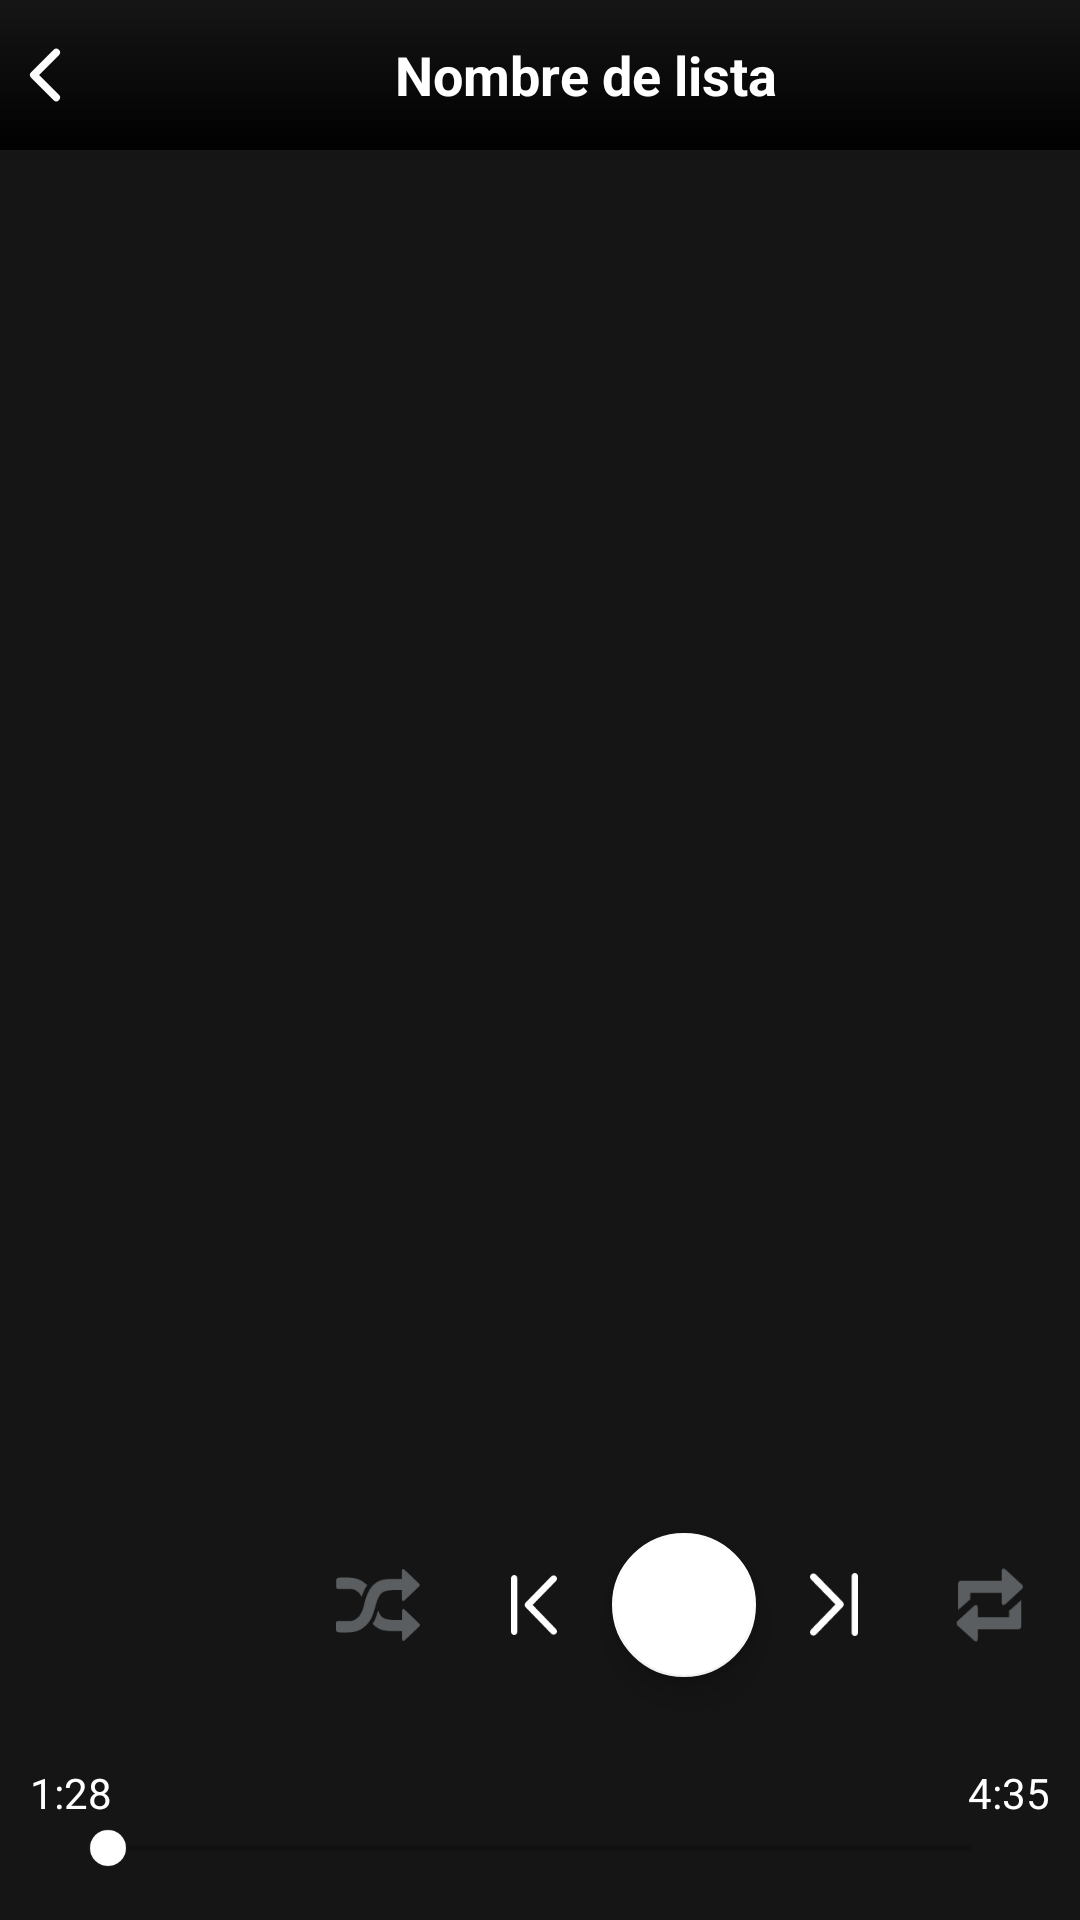

Locate icon controls on the screen. Image size 1080w x 1920h, boxes as box(x1, y1, x2, y2).
chevron left: box(29, 48, 61, 102)
repeat off: box(956, 1568, 1023, 1642)
shuffle off: box(336, 1569, 420, 1641)
skip next: box(810, 1573, 858, 1636)
skip previous: box(511, 1575, 557, 1635)
